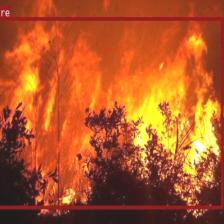fire: (0, 17, 223, 208)
